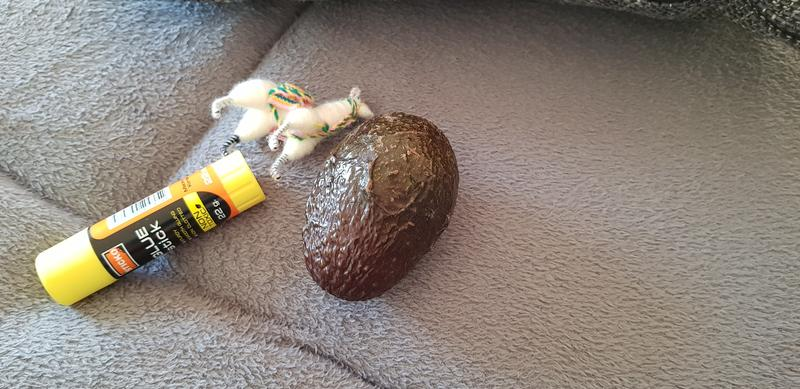Glue-Stick: (25, 147, 268, 315)
Horse-Toy: (296, 111, 462, 308), (209, 75, 382, 182)
